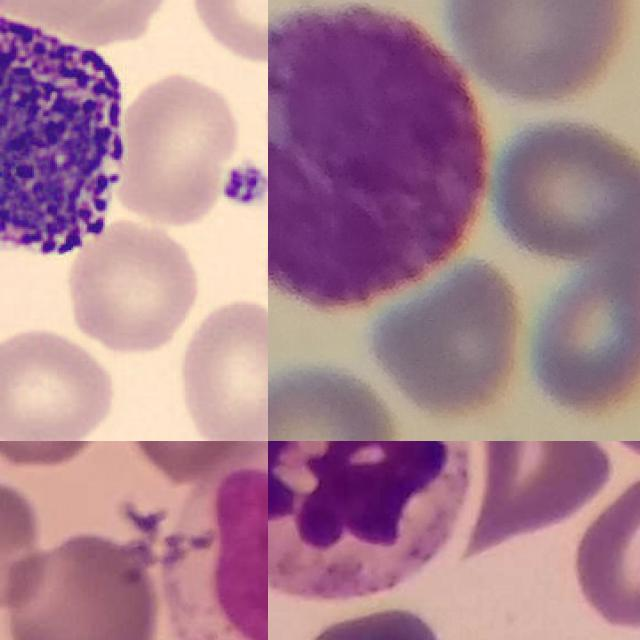Basophil: (268, 2, 489, 313), (0, 0, 137, 280)
Lymphocyte: (165, 441, 268, 640)
Neutrophil: (268, 441, 473, 598)
Platelets: (217, 160, 268, 209)
RBC: (110, 67, 244, 231), (63, 217, 205, 358), (172, 294, 268, 441), (0, 326, 121, 441), (183, 0, 268, 66)
